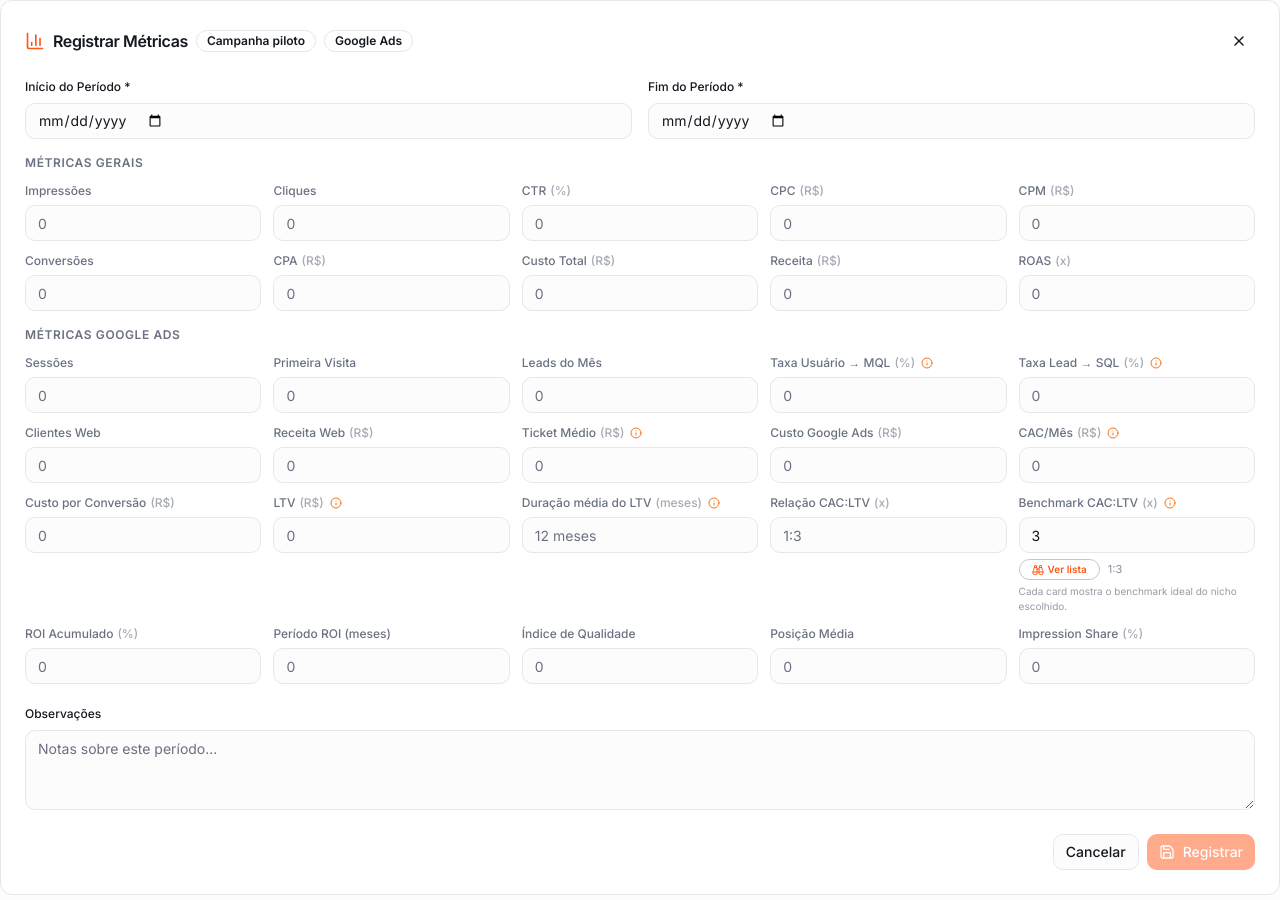
Scenario: CampaignMetricsForm benchmark dialog › opens the dialog when the helper action is clicked and closes after selecting a card
Click the button "Ver lista": (1059, 570) top-left (1019, 559), bottom-right (1100, 580)
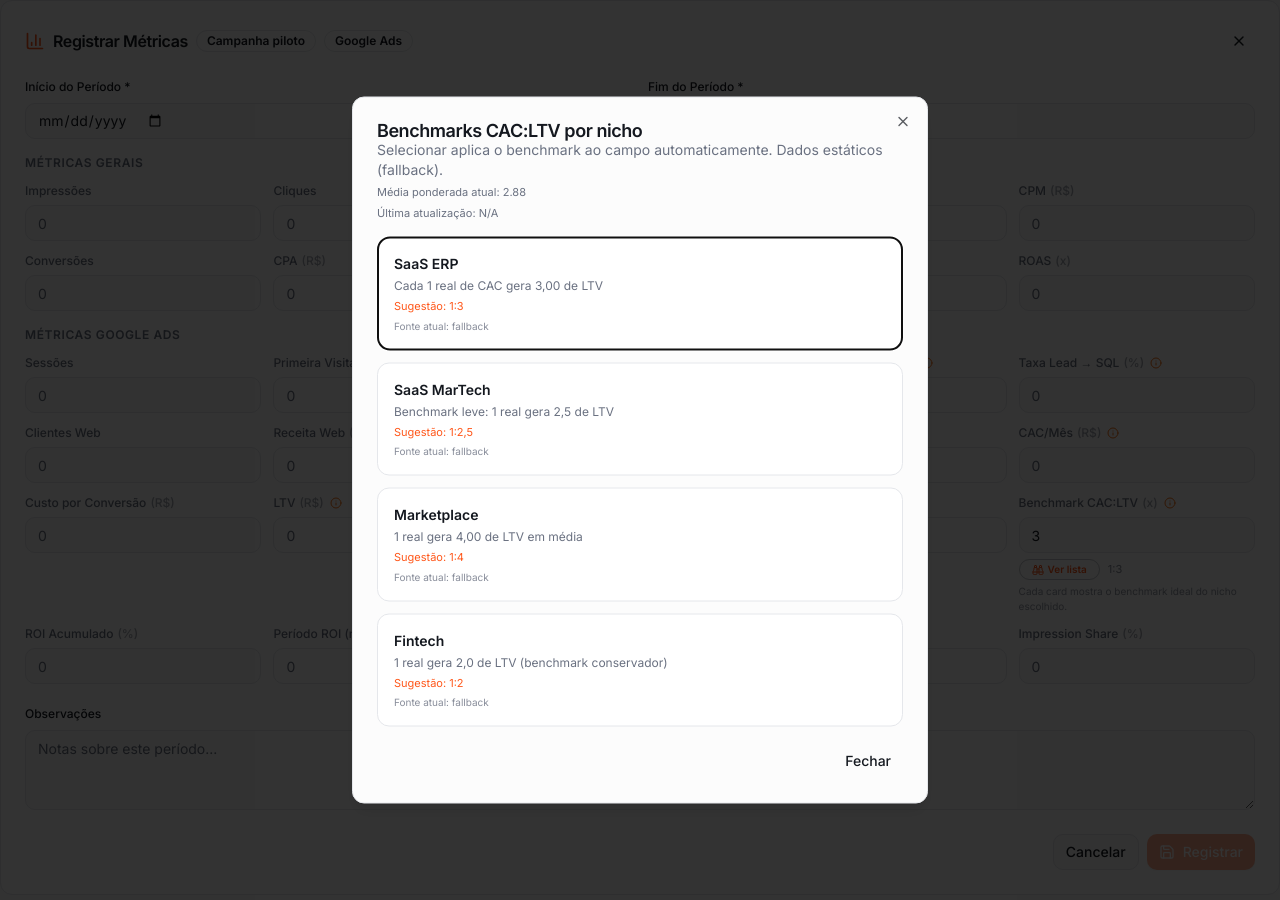
Result: the heading "Benchmarks CAC:LTV por nicho" is shown at top-left (377, 120), bottom-right (642, 140)
Click the button "SaaS ERP": (426, 263) top-left (377, 236), bottom-right (903, 350)
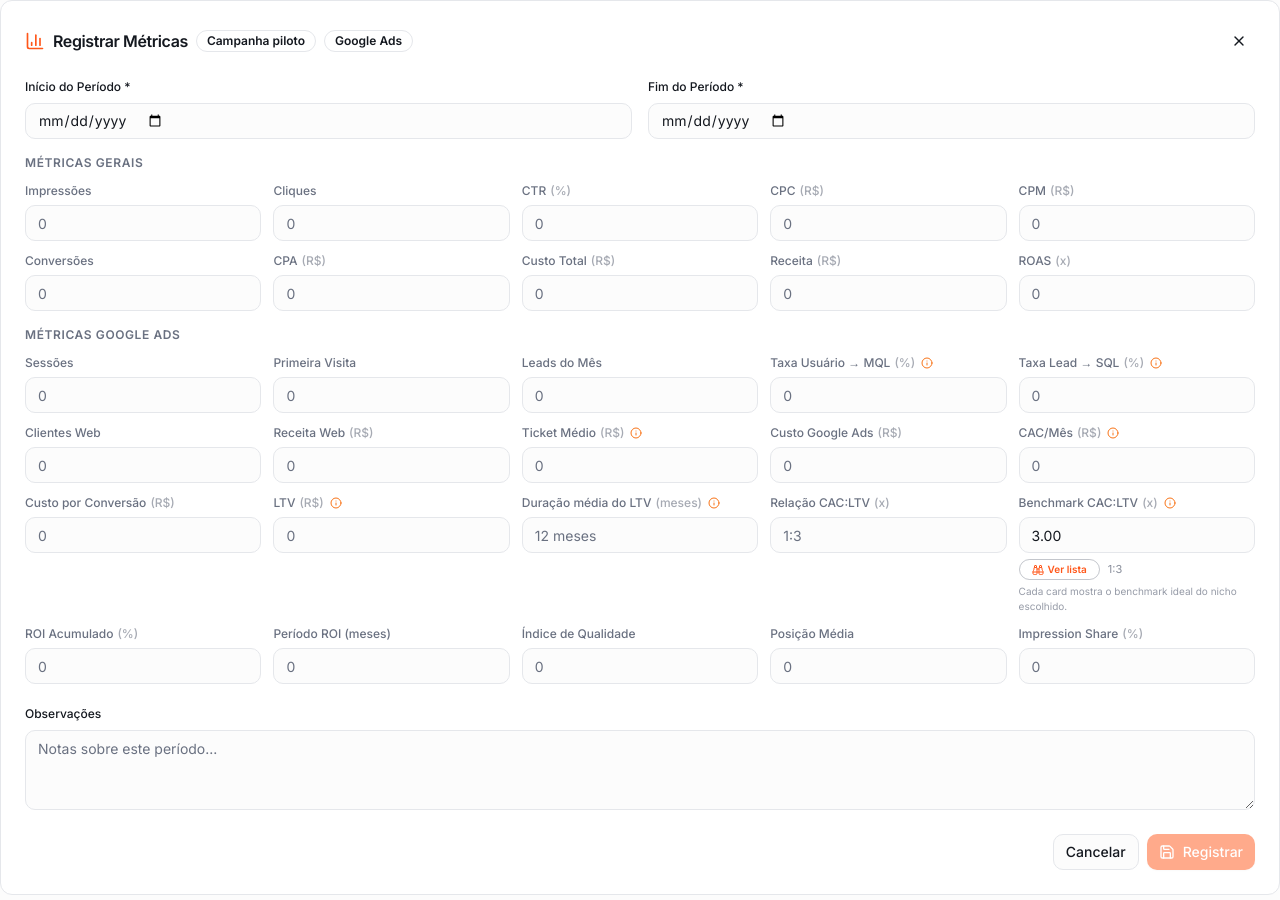
Expected: the button named "benchmark cac:ltv" in the row of "Benchmark CAC:LTV" is shown, top-left (1162, 495), bottom-right (1178, 511)
Result: the heading "Benchmarks CAC:LTV por nicho" is gone
